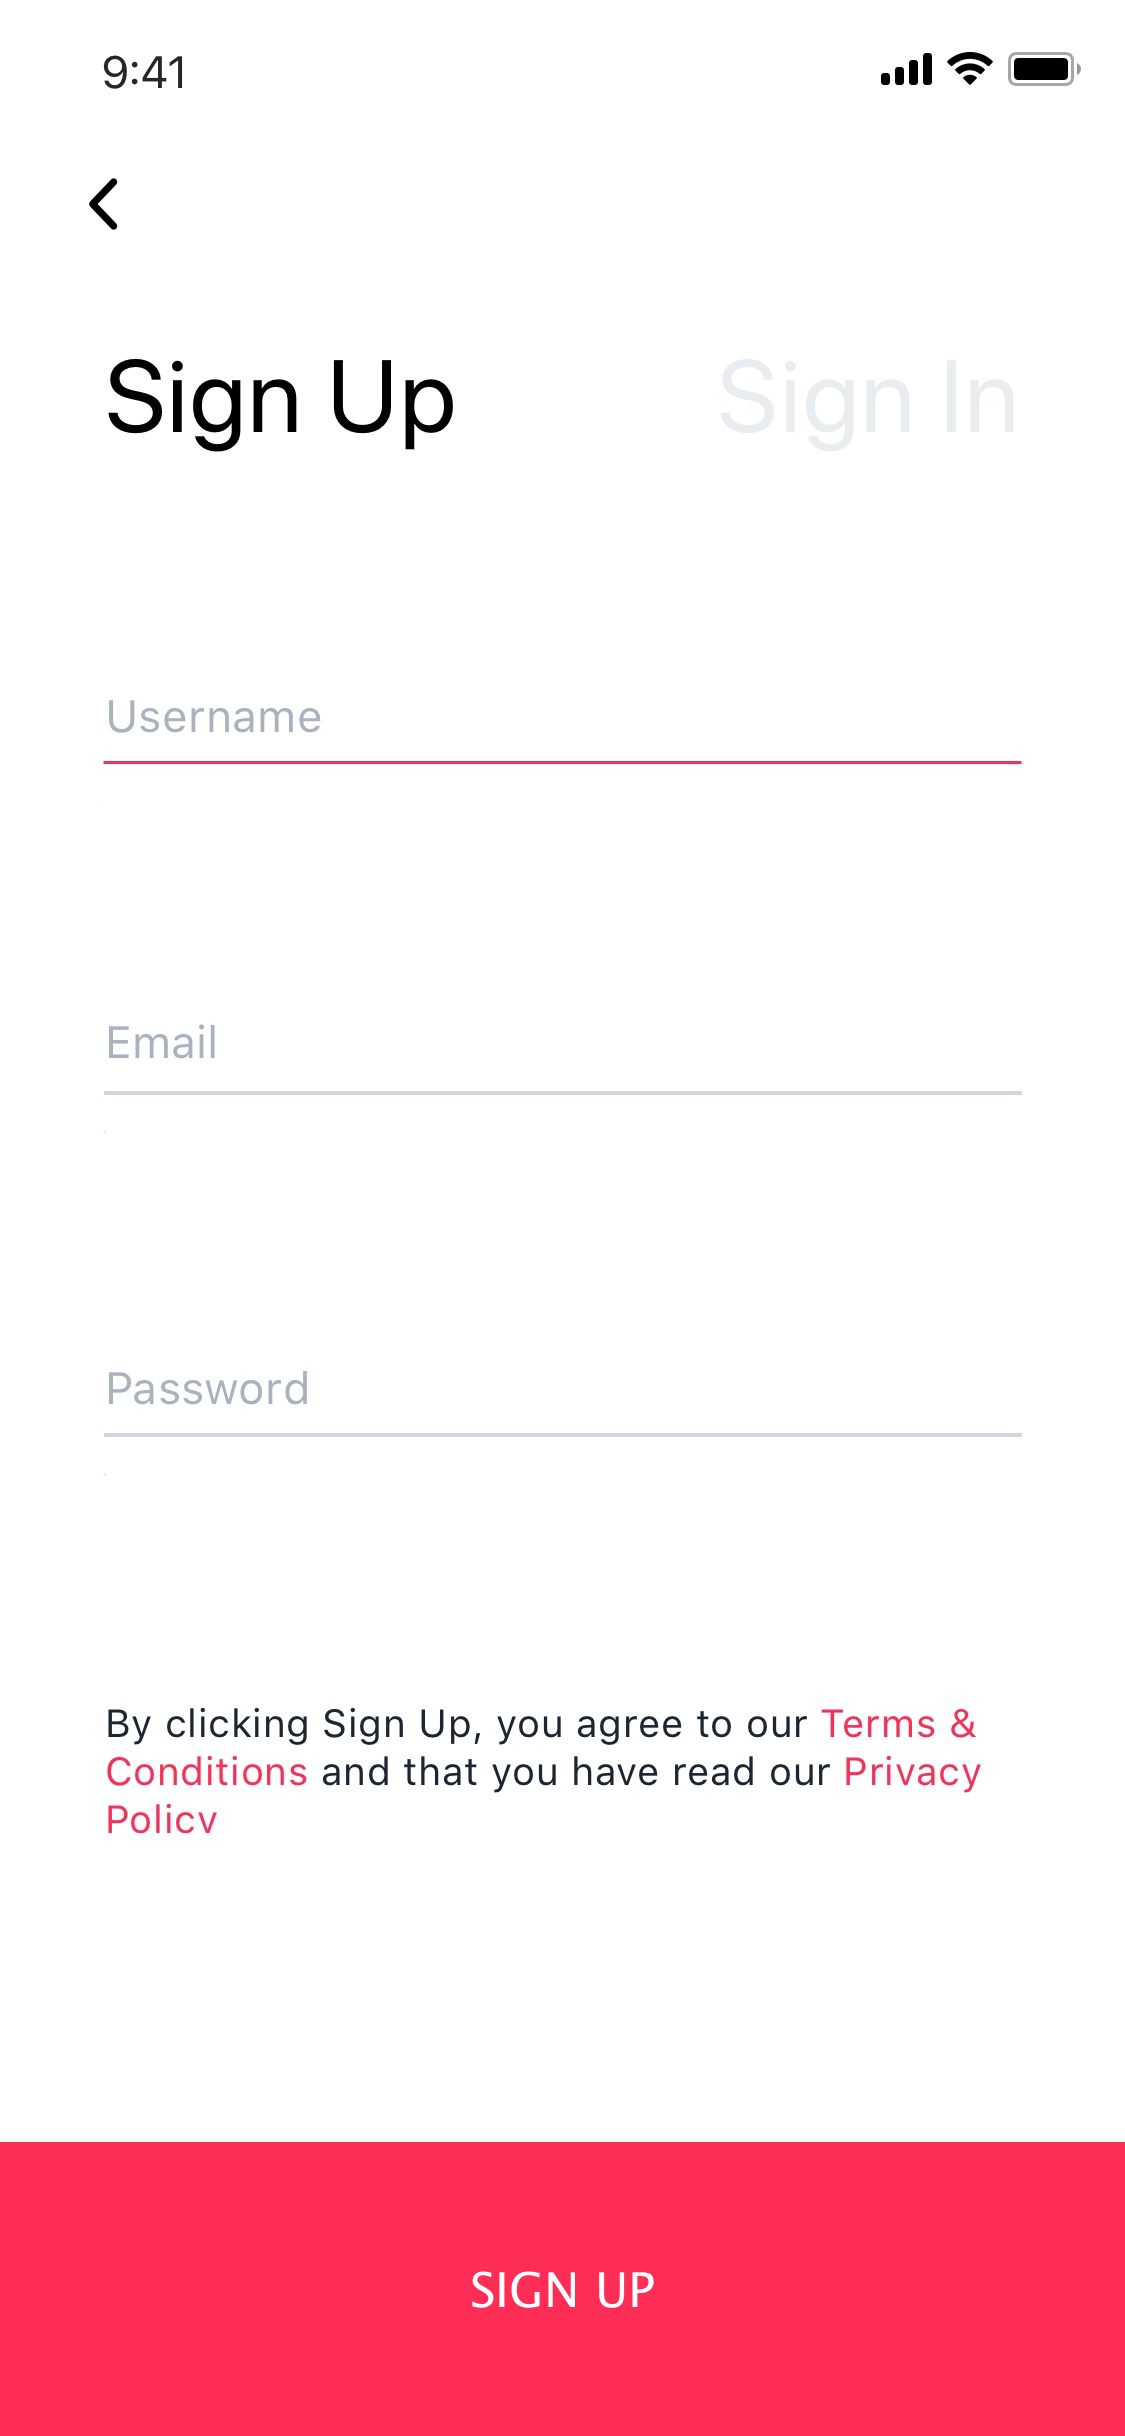EditText: (106, 1024, 1022, 1097), (104, 1370, 1022, 1439), (103, 701, 1022, 766)
Icon: (89, 179, 120, 231)
Text: (107, 1707, 982, 1835), (109, 359, 455, 454), (719, 359, 1015, 454), (110, 701, 322, 735), (109, 1372, 309, 1406), (110, 1024, 218, 1060)
TextButton: (2, 2142, 1125, 2436)
UpperTaskBar: (104, 51, 1081, 92)
